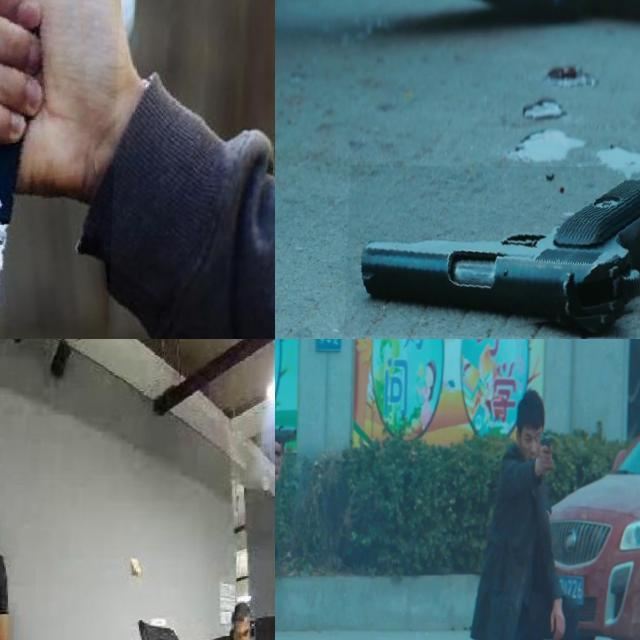-: (0, 0, 125, 339)
gun-knife-thesis - v11 Yolov5 augmented: (347, 164, 640, 336), (275, 421, 299, 485), (538, 432, 560, 472)
